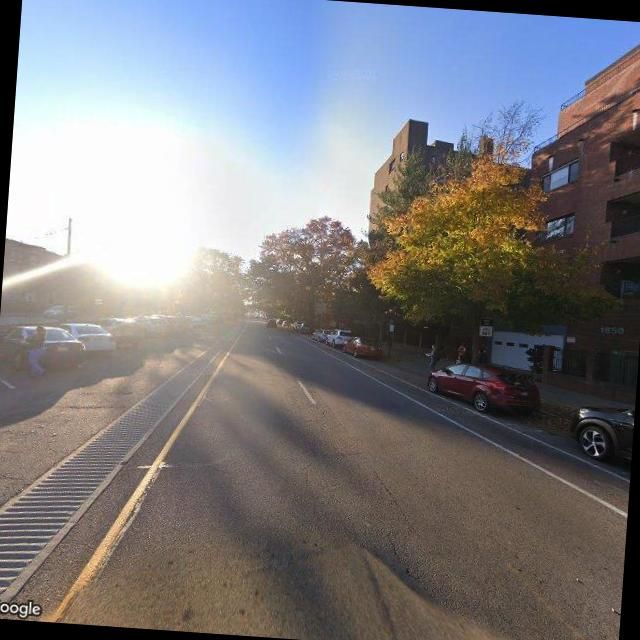pothole: (362, 464, 416, 528)
